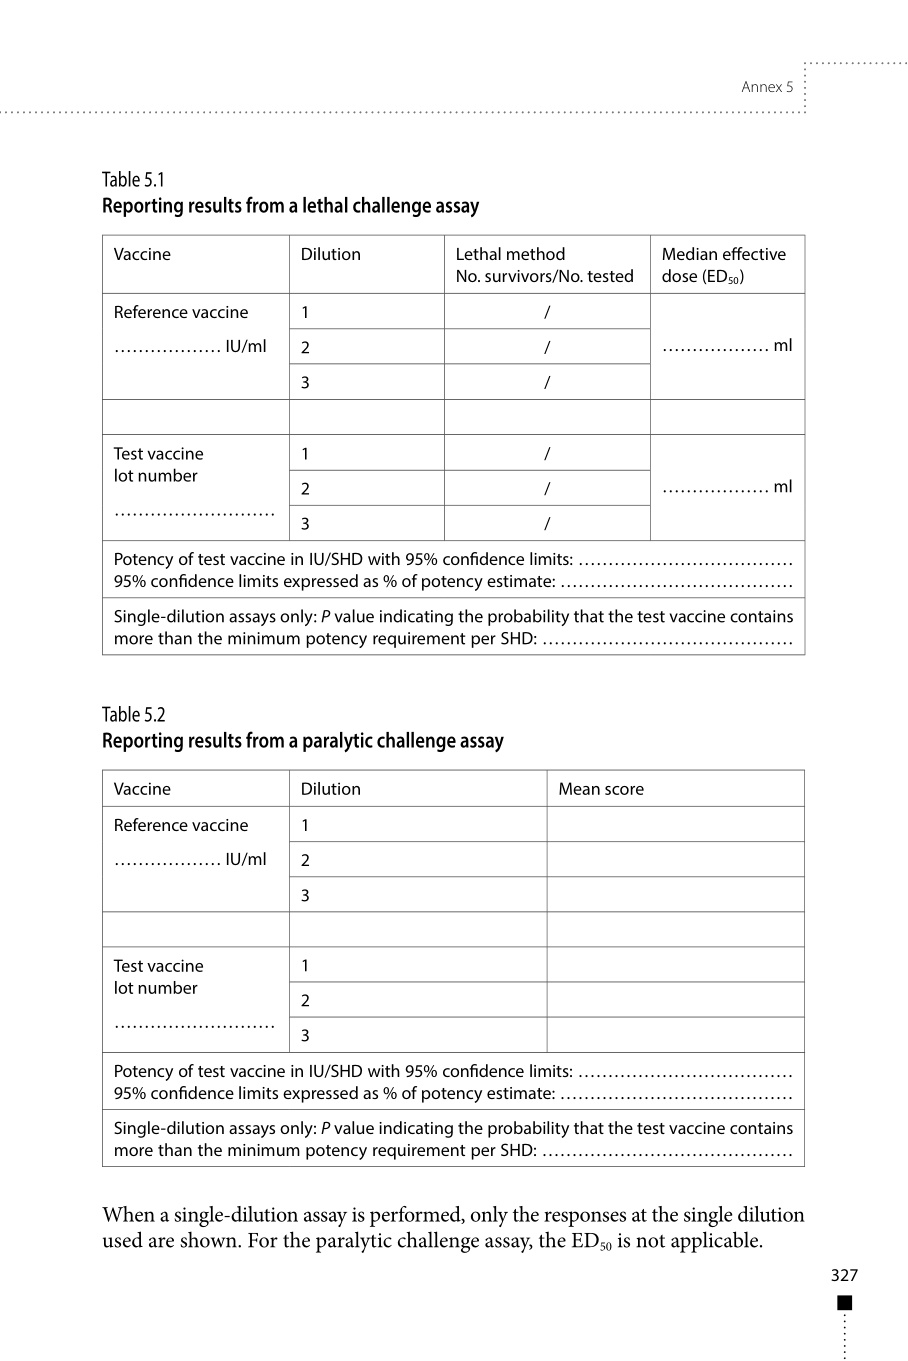merged_cells: (102, 234, 807, 656), (102, 769, 805, 1168)
